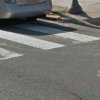crosswalk: (0, 24, 100, 60)
